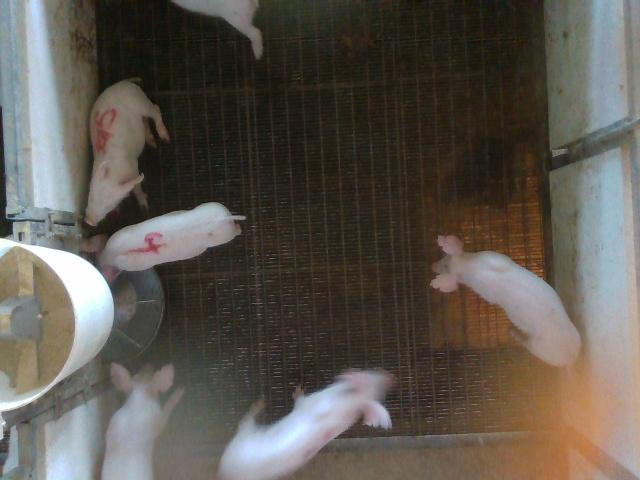pig-4: (81, 202, 245, 282)
pig-5: (85, 79, 169, 226)
